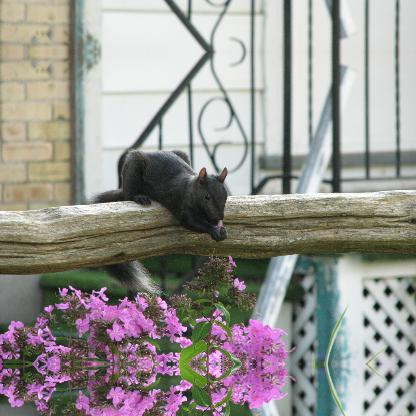Squirrel: (86, 148, 228, 294)
